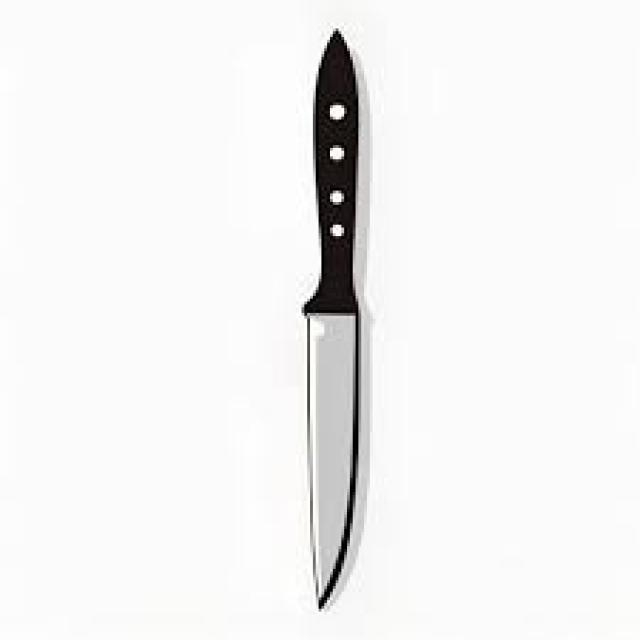Knife: (302, 26, 364, 608)
